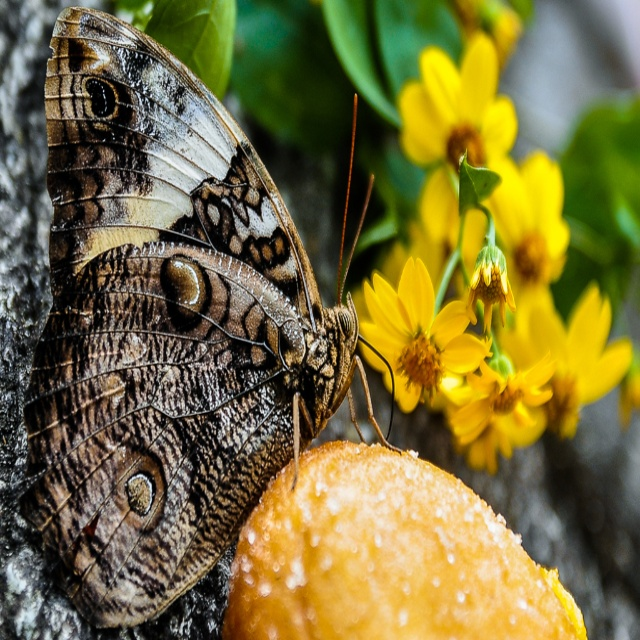Butterfly: (42, 11, 429, 601)
